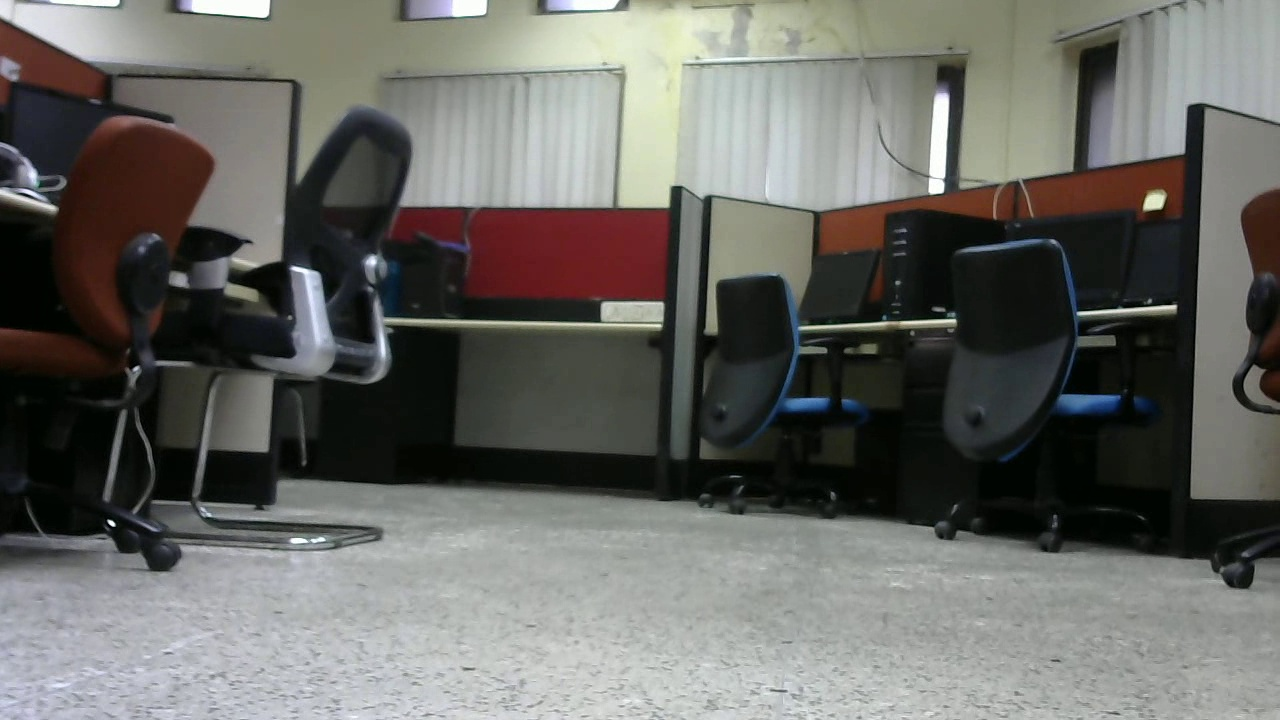chair: (206, 87, 439, 550), (1, 115, 226, 573), (917, 228, 1165, 558), (676, 272, 891, 523)
